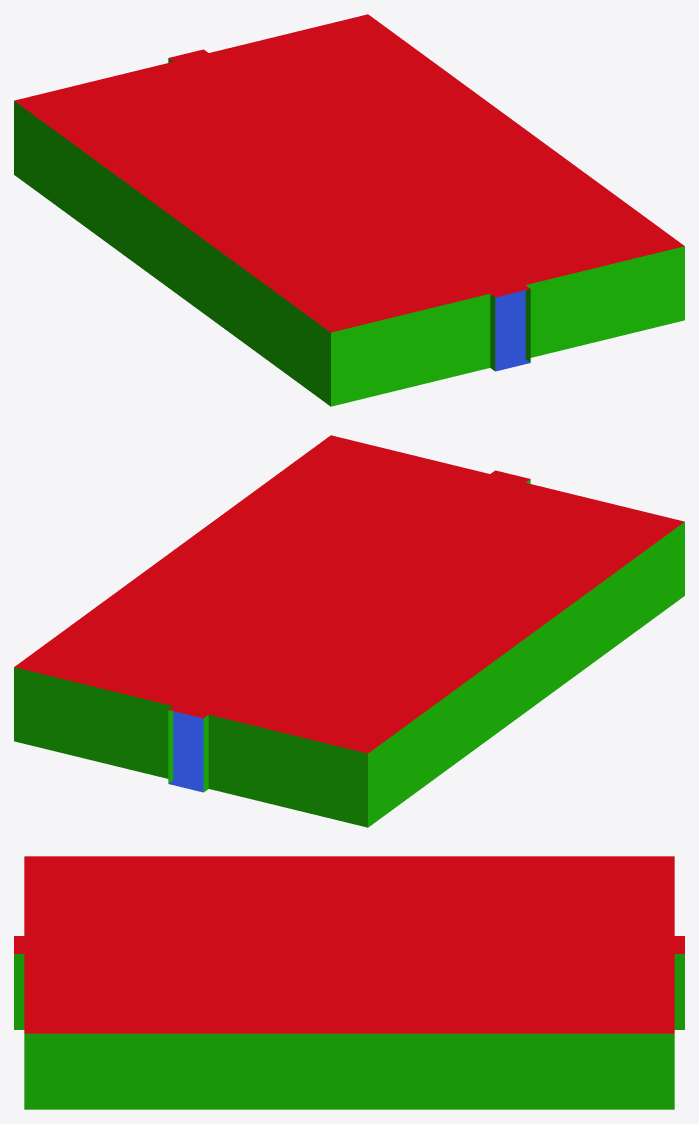
File: 5x8_Room.fbx
3 views of the same model, one above another, from view 1: azimuth 30°, elevation 25°; view 2: azimuth 150°, elevation 25°; view 3: azimuth 270°, elevation 25° (orthographic). The views are drawn at different scales.
Parts seen in each view (by area): view 1: 5x8 Room; view 2: 5x8 Room; view 3: 5x8 Room.
Boxes of the visible parts, <box> form: 5x8 Room: <box>14,14,684,406</box>; 5x8 Room: <box>14,435,684,827</box>; 5x8 Room: <box>14,856,684,1109</box>.
Bounding box in the file's own units: 4000 × 800 × 6400.
